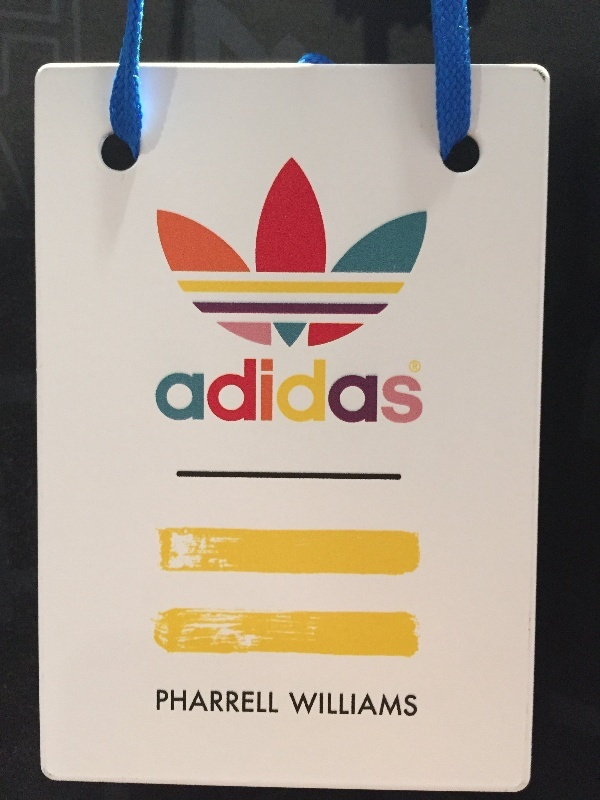text: (161, 358, 176, 425), (177, 358, 192, 425), (193, 358, 208, 425), (209, 358, 224, 425), (225, 358, 240, 425), (241, 358, 256, 425), (257, 358, 272, 425), (273, 358, 288, 425), (289, 358, 304, 425), (305, 358, 320, 425), (321, 358, 336, 425), (337, 358, 352, 425), (353, 358, 368, 425), (369, 358, 384, 425), (385, 358, 400, 425), (401, 358, 416, 425), (417, 358, 424, 425), (289, 693, 304, 719), (305, 693, 320, 719), (321, 693, 336, 719), (337, 693, 352, 719), (353, 693, 368, 719), (369, 693, 384, 719), (385, 693, 400, 719), (401, 693, 416, 719), (161, 689, 176, 714), (177, 689, 192, 714), (193, 689, 208, 714), (209, 689, 224, 714), (225, 689, 240, 714), (241, 689, 256, 714), (257, 689, 272, 714), (155, 358, 160, 425), (273, 689, 279, 714), (157, 689, 160, 714), (417, 693, 418, 719), (413, 363, 416, 371), (417, 363, 418, 371)
